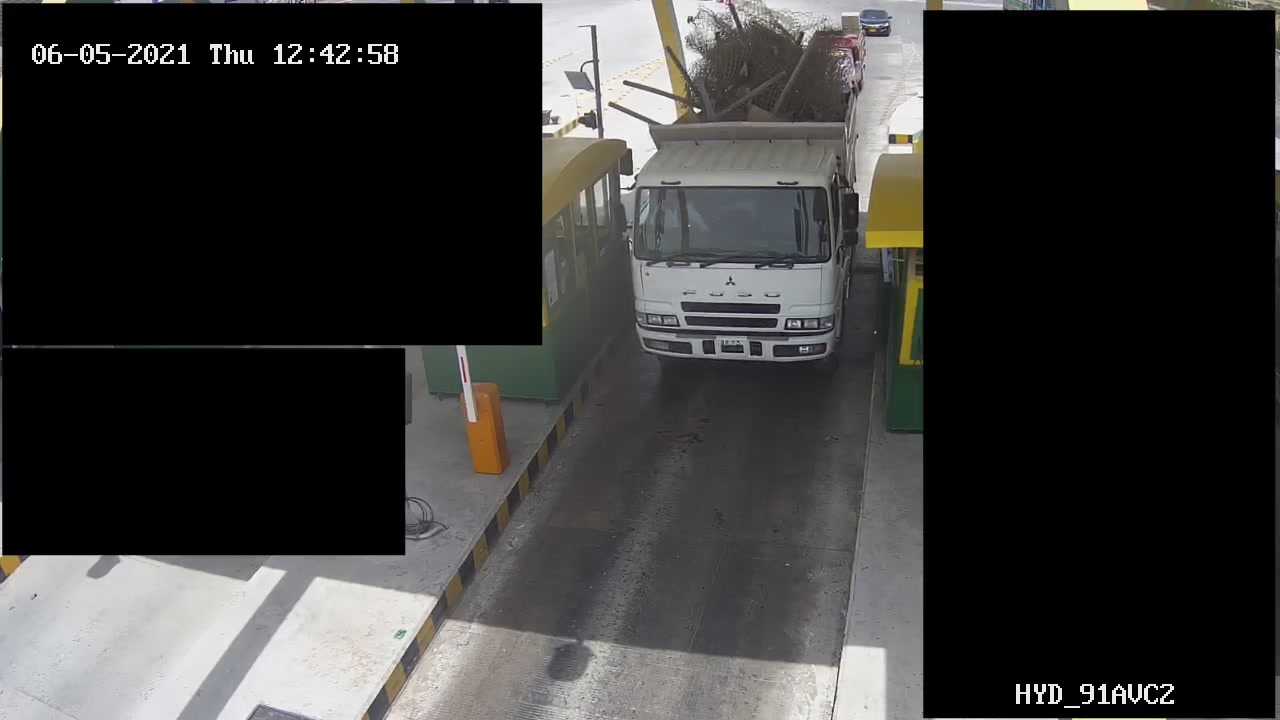F5: (625, 32, 869, 372)
